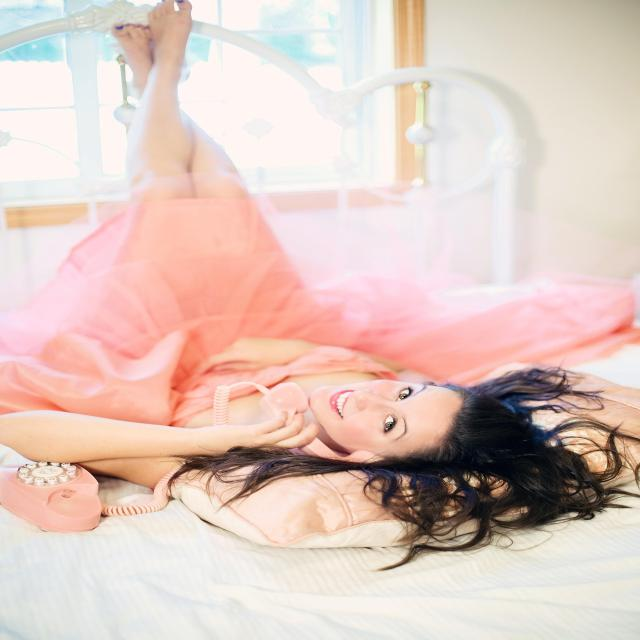Mobile: (0, 374, 387, 590)
